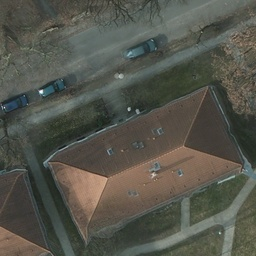car: (124, 35, 158, 60), (37, 73, 67, 97), (1, 93, 28, 114)
